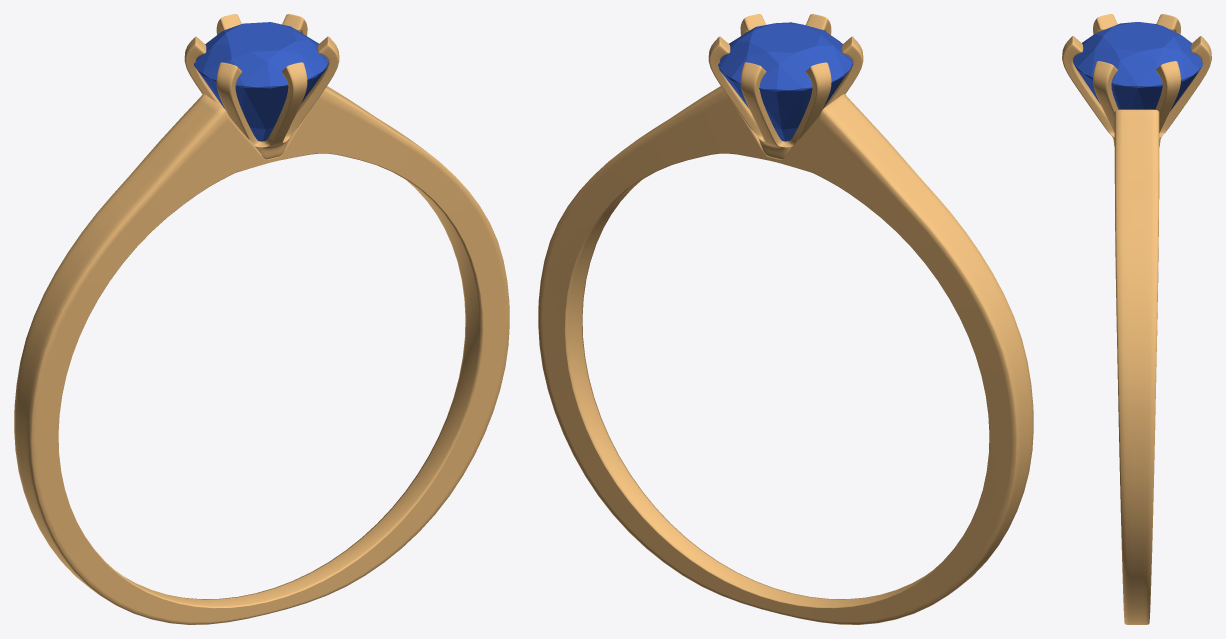
Rendered from 1744107506263_gyuru2 arany-kek.glb.
3 views of the same model, side by side, from view 1: azimuth 30°, elevation 25°; view 2: azimuth 150°, elevation 25°; view 3: azimuth 270°, elevation 25° (orthographic). The views are drawn at different scales.
Parts seen in each view (by area): view 1: node_3c45e496_8179_4aa6_8076_15acc9f23f34_mesh0, node_63c2521e_4d6f_418e_833f_8184712b430d_mesh0; view 2: node_3c45e496_8179_4aa6_8076_15acc9f23f34_mesh0, node_63c2521e_4d6f_418e_833f_8184712b430d_mesh0; view 3: node_3c45e496_8179_4aa6_8076_15acc9f23f34_mesh0, node_63c2521e_4d6f_418e_833f_8184712b430d_mesh0.
Boxes of the visible parts, x1,y1,x2,y2 form: node_3c45e496_8179_4aa6_8076_15acc9f23f34_mesh0: (14, 14, 509, 624); node_63c2521e_4d6f_418e_833f_8184712b430d_mesh0: (194, 22, 328, 141); node_3c45e496_8179_4aa6_8076_15acc9f23f34_mesh0: (538, 14, 1033, 624); node_63c2521e_4d6f_418e_833f_8184712b430d_mesh0: (718, 22, 852, 141); node_3c45e496_8179_4aa6_8076_15acc9f23f34_mesh0: (1062, 14, 1211, 624); node_63c2521e_4d6f_418e_833f_8184712b430d_mesh0: (1073, 22, 1203, 110).
Size of the model in its own units: 1.4 by 1.6 by 0.39.
